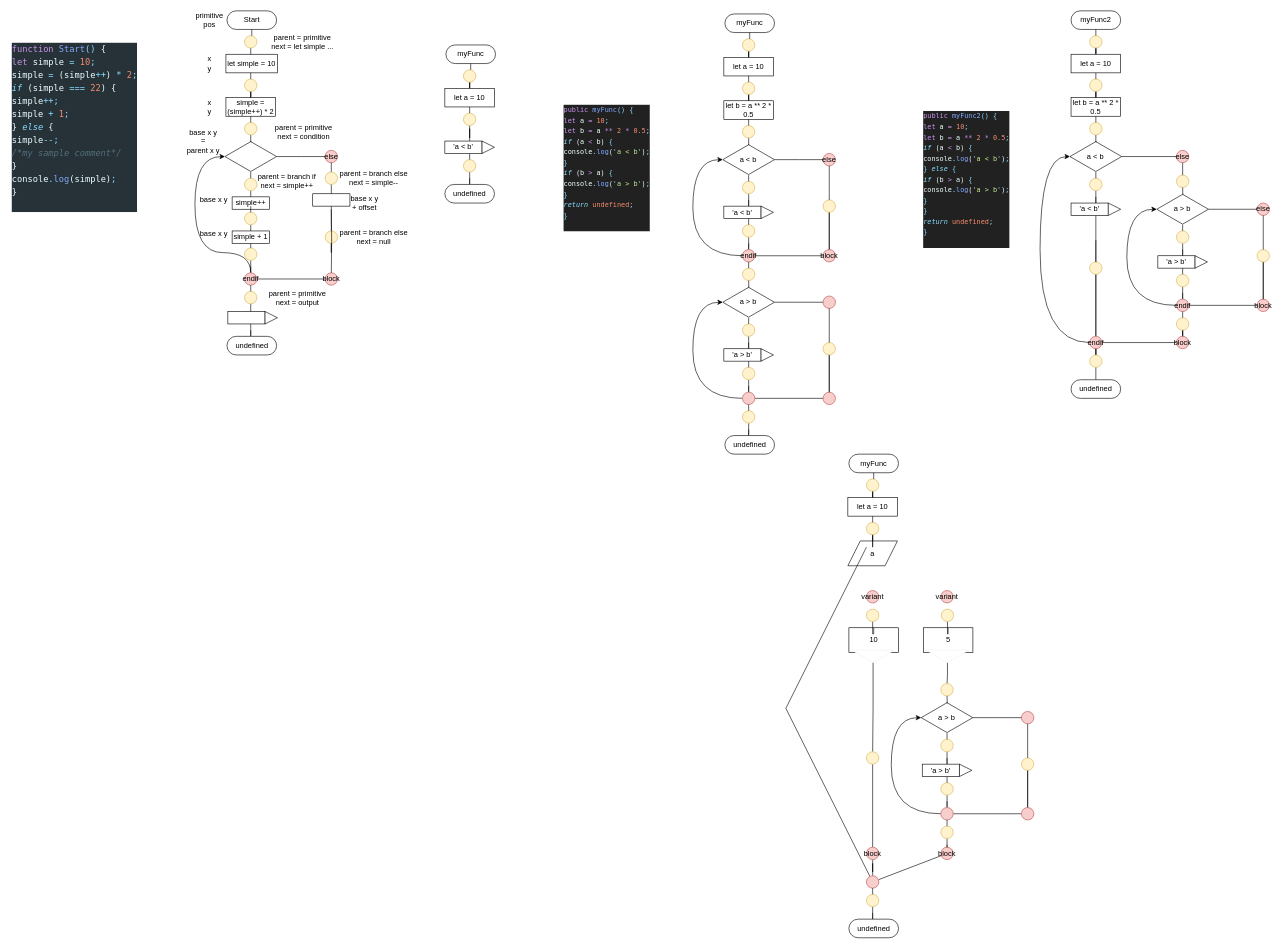
Image size: 1282x949. Some labels were removed from this diagram. The centre of each missing label's shape, as x and y in pixels:
endswitch: the point at 872,881
simple: the point at 246,317
simple ===22: the point at 250,156
simple--: the point at 331,199
